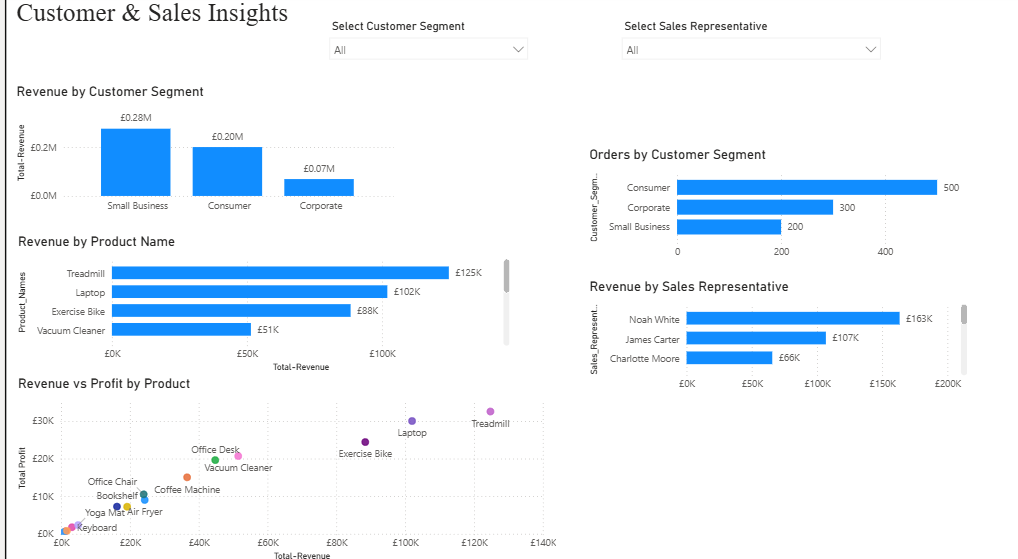

Layout of this report page (visuals, bound fields, positions):
{"tool":"powerbi","page":{"name":"Customer and Sales Insights","canvas":[1280,720],"ordinal":2},"visuals":[{"type":"textbox","box":[9.4,0,523.5,56.7],"z":0},{"type":"clusteredColumnChart","title":"Revenue by Customer Segment","fields":{"Category":["Sales_Data.Customer_Segment"],"Y":["Sales_Data.Total-Revenue"]},"box":[9.4,113.4,485.7,172],"z":1000},{"type":"clusteredBarChart","title":" Orders by Customer Segment","fields":{"Category":["Sales_Data.Customer_Segment"],"Y":["Sales_Data.Total Orders"]},"box":[731.3,192.8,485.7,151.2],"z":2000},{"type":"clusteredBarChart","title":"Revenue by Product Name","fields":{"Category":["Sales_Data.Product_Names"],"Y":["Sales_Data.Total-Revenue"]},"box":[11.3,302.4,629.3,179.5],"z":3000},{"type":"clusteredBarChart","title":"Revenue by Sales Representative","fields":{"Category":["Sales_Data.Sales_Representative"],"Y":["Sales_Data.Total-Revenue"]},"box":[731.3,359.1,485.7,151.2],"z":4000},{"type":"scatterChart","title":"Revenue vs Profit by Product ","fields":{"X":["Sales_Data.Total-Revenue"],"Y":["Sales_Data.Total Profit"],"Series":["Sales_Data.Product_Names"]},"box":[11.3,481.9,687.9,238.1],"z":5000},{"type":"slicer","fields":{"Values":["Sales_Data.Customer_Segment"]},"box":[398.7,28.3,270.2,62.4],"z":6000},{"type":"slicer","fields":{"Values":["Sales_Data.Sales_Representative"]},"box":[767.2,28.3,345.8,60.5],"z":7000}]}

Visuals, with their boxes in screenshot pixels (x1, y1, x2, y2), scaled from the page's 1280x720 canvas onto the 1018x559 screenshot:
textbox: [left=7, top=0, right=424, bottom=44]
"Revenue by Customer Segment" clusteredColumnChart: [left=7, top=88, right=394, bottom=222]
" Orders by Customer Segment" clusteredBarChart: [left=582, top=150, right=968, bottom=267]
"Revenue by Product Name" clusteredBarChart: [left=9, top=235, right=509, bottom=374]
"Revenue by Sales Representative" clusteredBarChart: [left=582, top=279, right=968, bottom=396]
"Revenue vs Profit by Product " scatterChart: [left=9, top=374, right=556, bottom=558]
slicer - Sales_Data.Customer_Segment: [left=317, top=22, right=532, bottom=70]
slicer - Sales_Data.Sales_Representative: [left=610, top=22, right=885, bottom=69]
